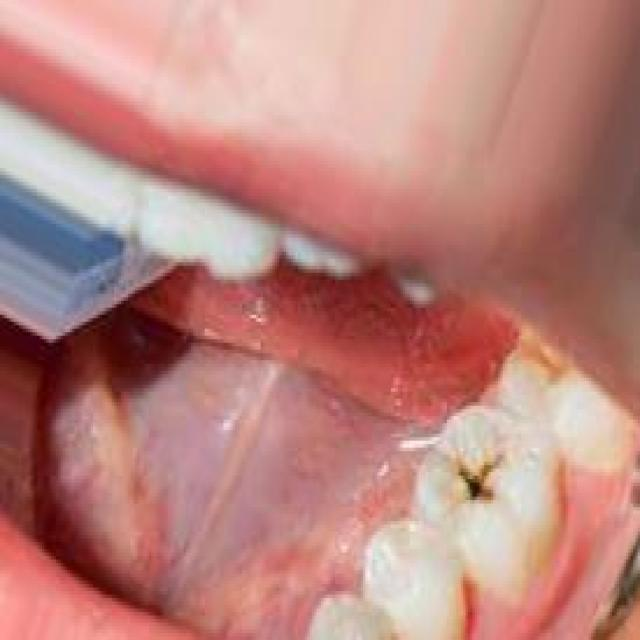caries: (436, 422, 529, 544)
